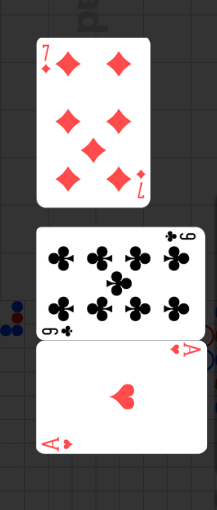7D: (40, 43, 53, 75)
9C: (41, 323, 75, 337)
AH: (41, 435, 76, 452)
